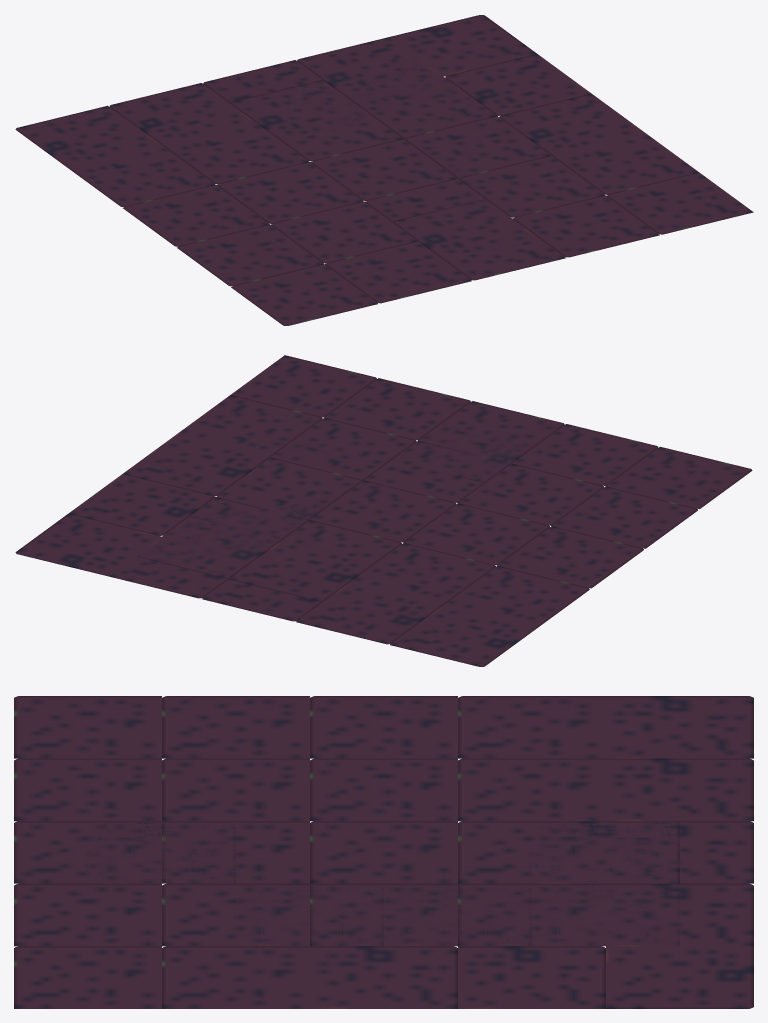
Rendered from lvl_dirt_flat_basic.obj.
3 views of the same model, one above another, from view 1: azimuth 30°, elevation 25°; view 2: azimuth 150°, elevation 25°; view 3: azimuth 270°, elevation 25° (orthographic). The views are drawn at different scales.
Visible parts, largest first — view 1: Default; view 2: Default; view 3: Default.
Part boxes in pixels (x1,y1,x2,y2): Default: [15, 15, 753, 325]; Default: [15, 355, 752, 666]; Default: [14, 696, 753, 1008].
Size of the model in its own units: 5 by 0 by 5.
Materials: 1 (1 with a texture image).
